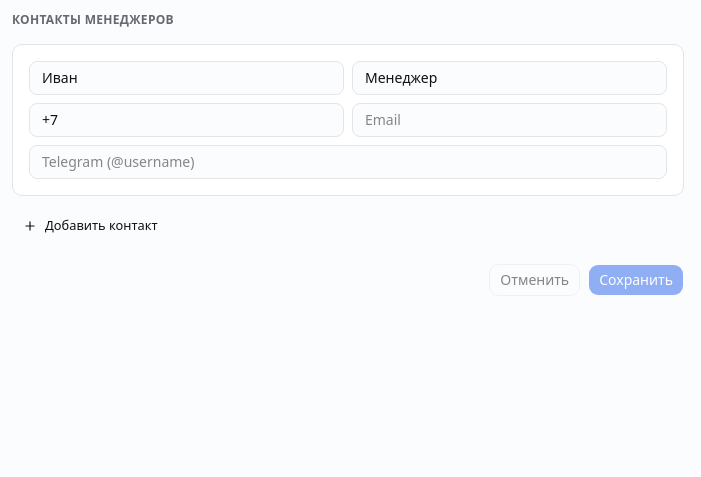
Test: AgencyContactsTab › add and remove contact buttons mutate count
Step 1. Click the button "Добавить контакт" → [90, 226], box [12,212,169,240]
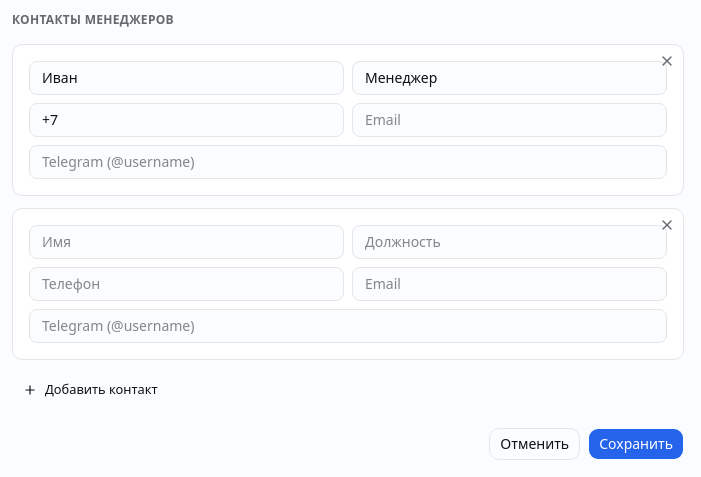
Result: the number of fields with placeholder "Имя" is 2 at [29,61,344,95]; [29,225,344,259]
Step 2. Click the 1st button named "Удалить контакт" → [667, 61], box [659,53,675,69]
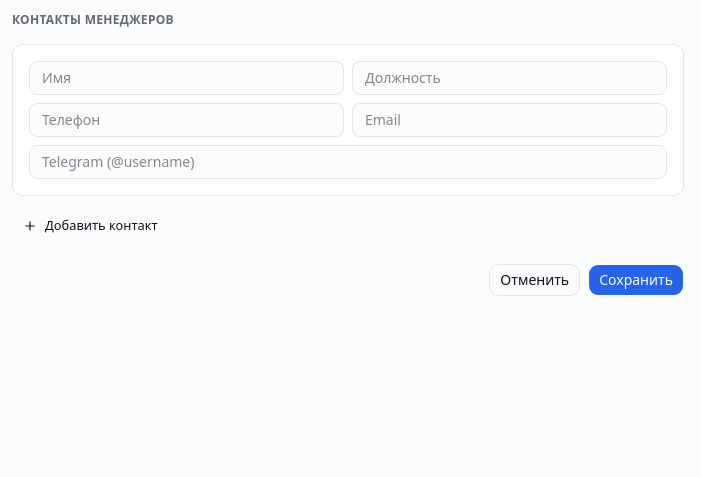
Result: the number of fields with placeholder "Имя" is 1 at [29,61,344,95]
